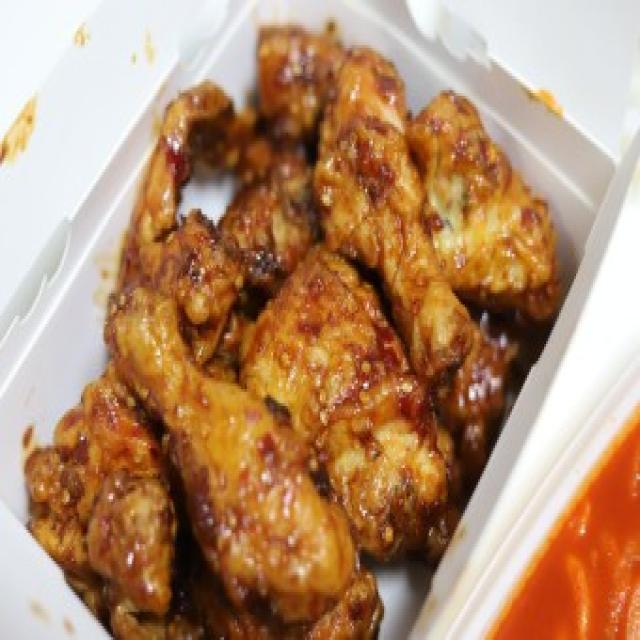Frango: (30, 16, 553, 640)
